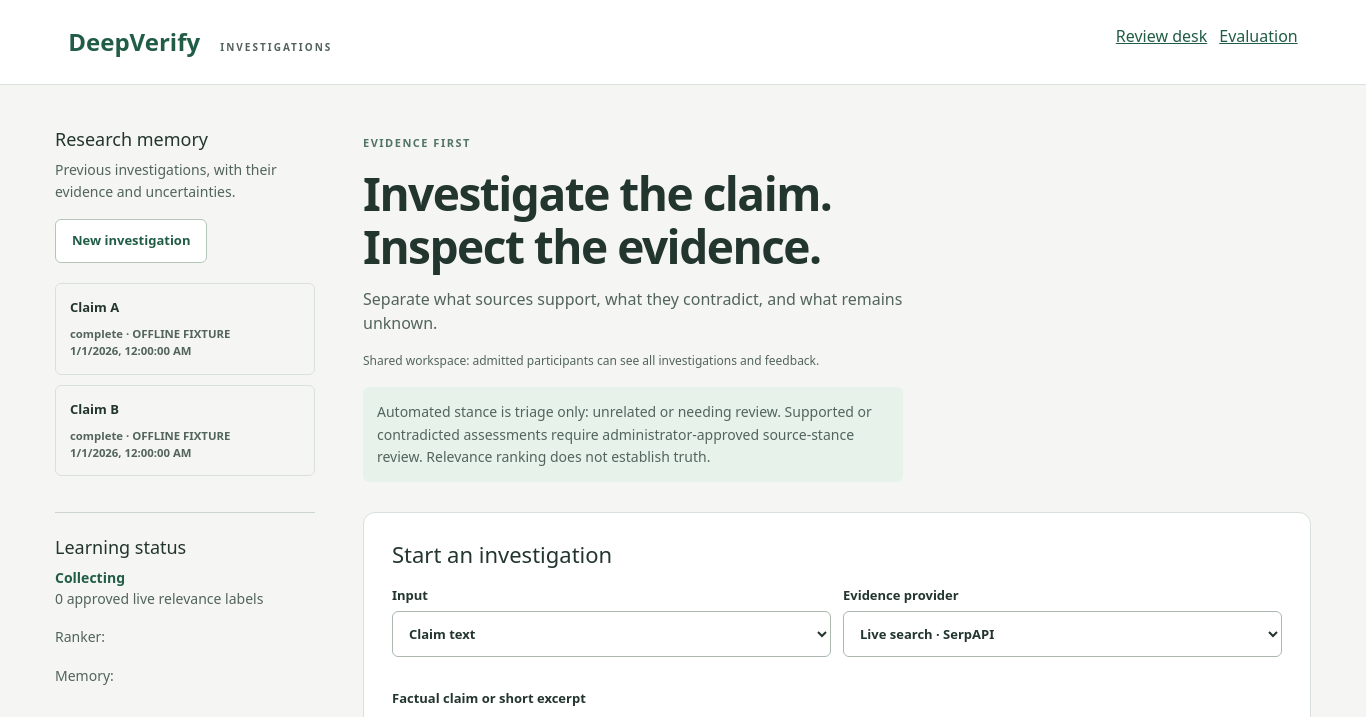
Scenario: investigation navigation › new investigation invalidates pending responses and stale errors
Click the button "Claim A complete · OFFLINE FIXTURE1/1/2026, 12:00:00 AM".
click(185, 329)  # box [55, 283, 315, 374]
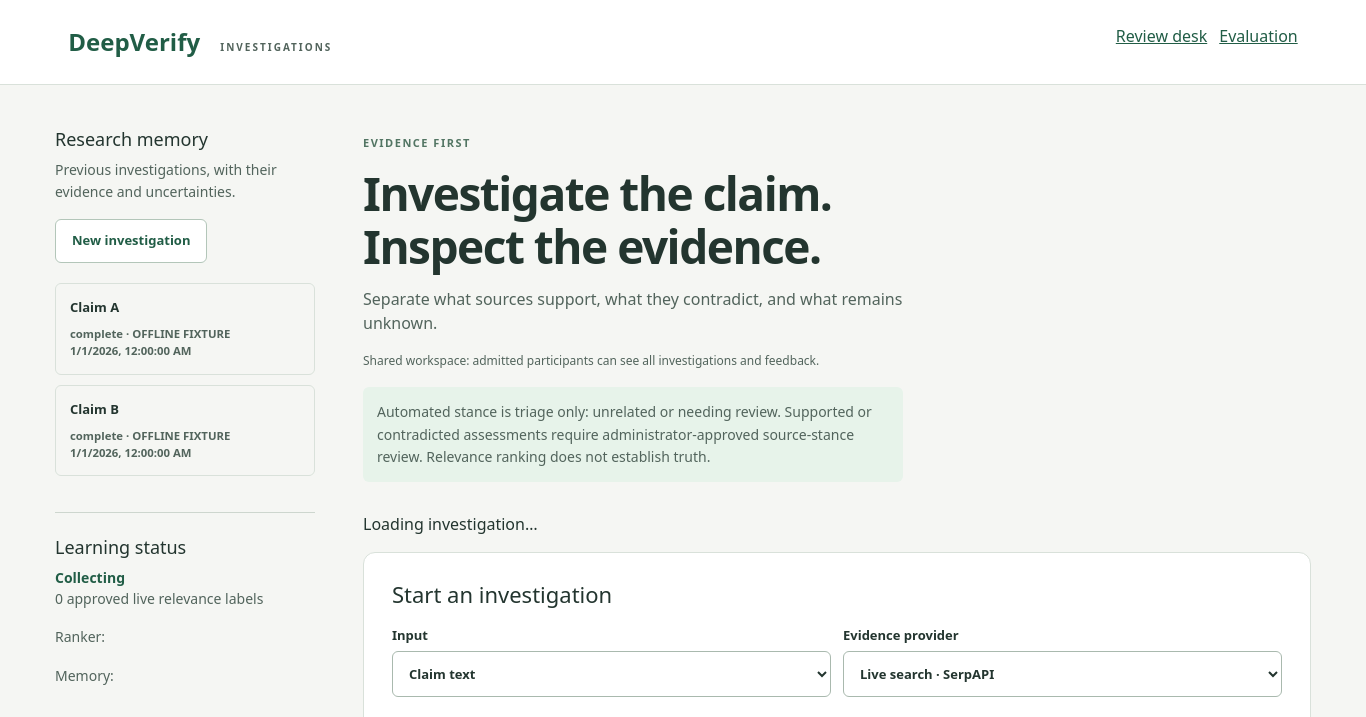
Click the button "New investigation".
click(131, 241)  # box [55, 219, 207, 263]
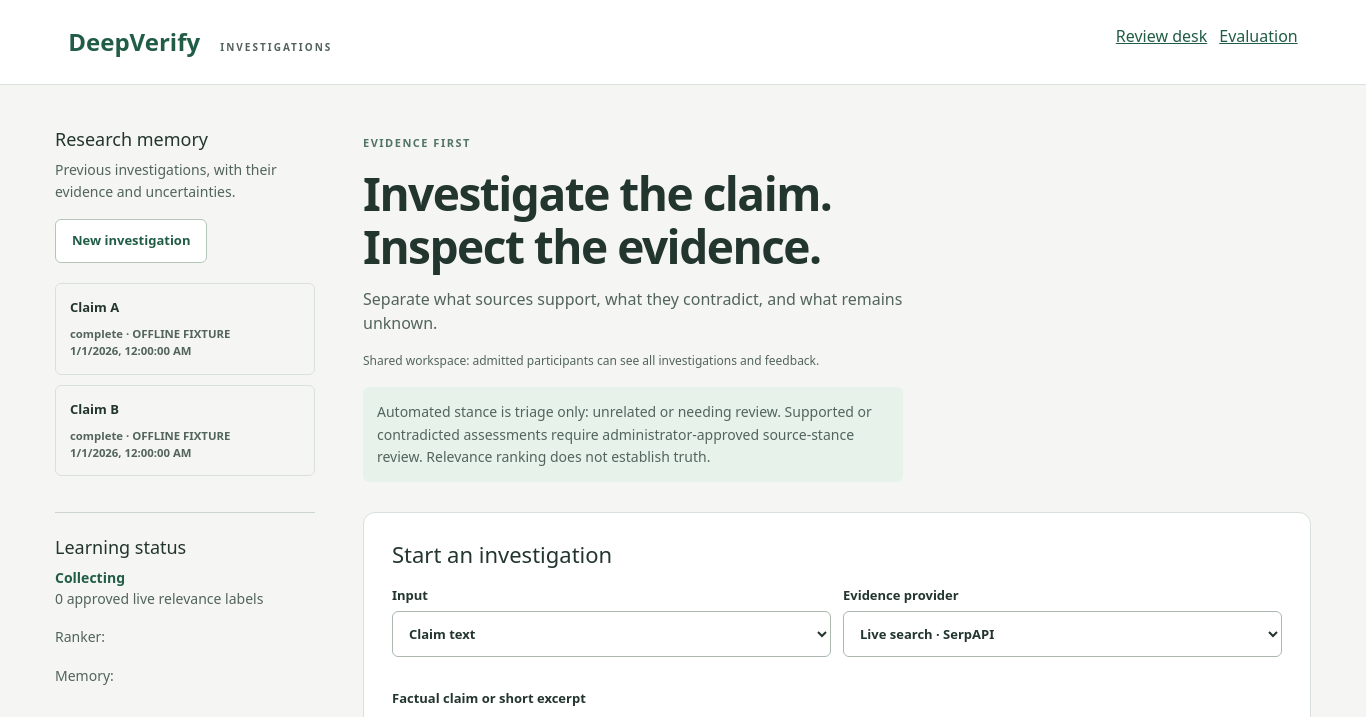
Expected: the message "Loading investigation…" is gone
